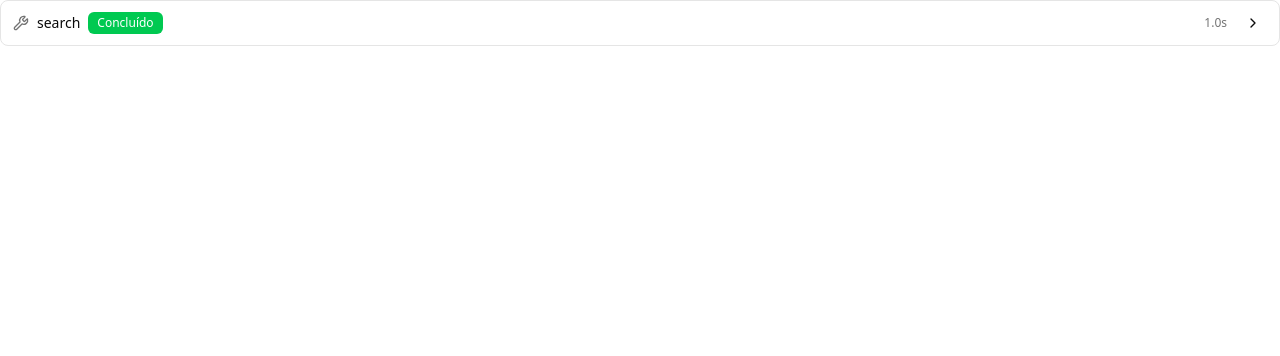
Scenario: UX Improvements - Tool Result Preview › deve aplicar max-height em resultados JSON
This screenshot has width=1280, height=356.
# Abre o collapsible
Click the button named "Ver detalhes técnicos" at (1253, 23), box top-left (1239, 9), bottom-right (1267, 37)
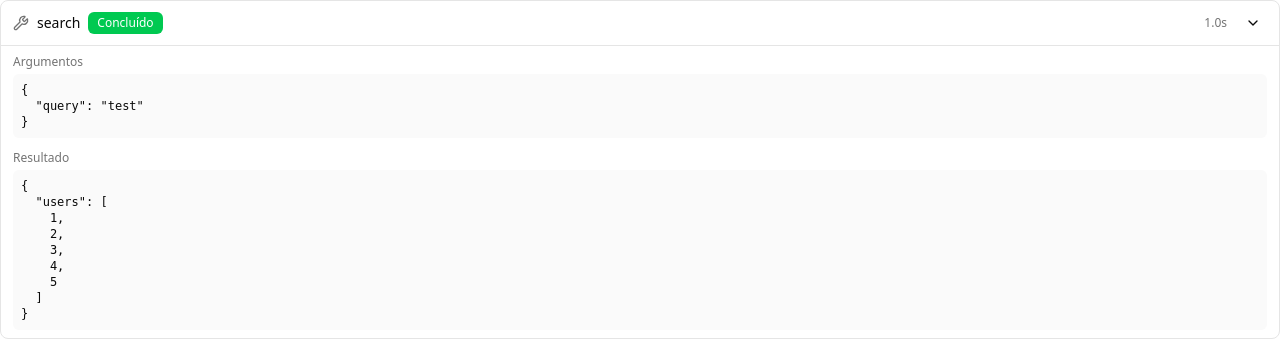
Now the text "{ \"users\": [ 1, 2, 3, 4, 5 ] }" is shown, box top-left (13, 170), bottom-right (1267, 330)
